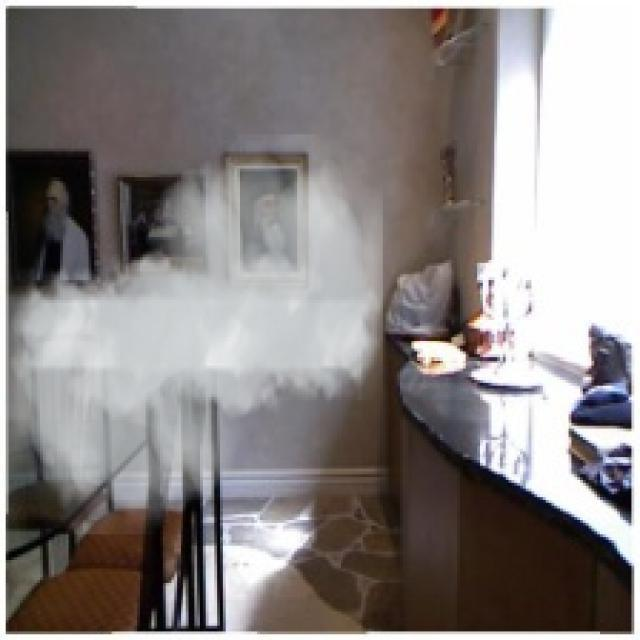Smoke: (8, 135, 383, 534)
